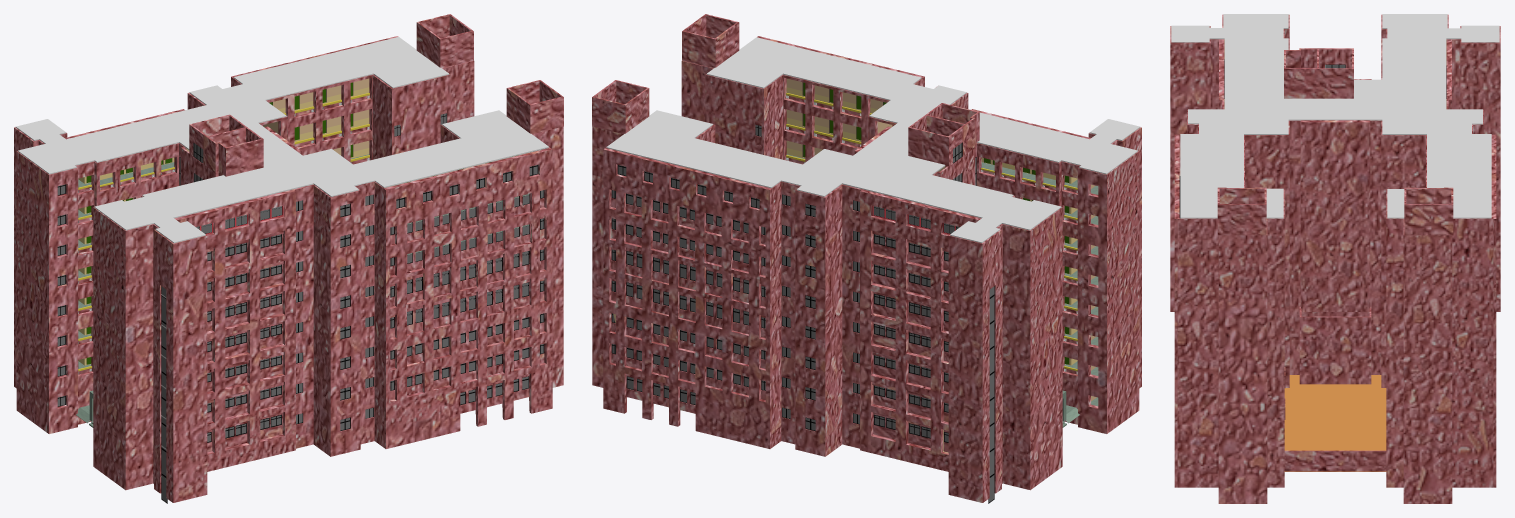
3 renders of one model, left to right at view 1: azimuth 30°, elevation 25°; view 2: azimuth 150°, elevation 25°; view 3: azimuth 270°, elevation 25°, orthographic. The views are drawn at different scales.
Visible parts, largest first — view 1: Screenshot (4550).003, Screenshot (4550).015, Screenshot (4550).014, bh3wind1.006, bh3wind1.008, Screenshot (4550).013, bh3wind4.006, Screenshot (4550).002, bh3wind4.007, bh3wind3.012, bh3wind3.013, bh3wind3.016 (+10 smaller); view 2: Screenshot (4550).003, Screenshot (4550).015, Screenshot (4550).014, bh3wind1.002, bh3wind1.004, Screenshot (4550).013, bh3wind4.002, Screenshot (4550).002, bh3wind4.005, bh3wind3.002, bh3wind3.003, bh3wind3.010 (+8 smaller); view 3: Screenshot (4550).003, Screenshot (4550).015, Vert.002, Vert.003, Vert, Screenshot (4550).014, Screenshot (4550).013, Vert.006.
Boxes of the visible parts, x1=… form: Screenshot (4550).003: x1=14, y1=36, x2=563, y2=502; Screenshot (4550).015: x1=15, y1=37, x2=548, y2=449; Screenshot (4550).014: x1=416, y1=14, x2=563, y2=133; bh3wind1.006: x1=207, y1=234, x2=282, y2=452; bh3wind1.008: x1=207, y1=234, x2=281, y2=442; Screenshot (4550).013: x1=189, y1=114, x2=263, y2=176; bh3wind4.006: x1=407, y1=247, x2=529, y2=334; Screenshot (4550).002: x1=78, y1=78, x2=527, y2=365; bh3wind4.007: x1=407, y1=251, x2=529, y2=325; bh3wind3.012: x1=407, y1=317, x2=529, y2=395; bh3wind3.013: x1=407, y1=194, x2=529, y2=271; bh3wind3.016: x1=407, y1=317, x2=529, y2=386; Screenshot (4550).003: x1=592, y1=36, x2=1141, y2=502; Screenshot (4550).015: x1=606, y1=37, x2=1140, y2=375; Screenshot (4550).014: x1=592, y1=14, x2=739, y2=133; bh3wind1.002: x1=873, y1=234, x2=948, y2=452; bh3wind1.004: x1=874, y1=234, x2=948, y2=442; Screenshot (4550).013: x1=908, y1=103, x2=979, y2=166; bh3wind4.002: x1=626, y1=247, x2=748, y2=334; Screenshot (4550).002: x1=613, y1=78, x2=1096, y2=452; bh3wind4.005: x1=626, y1=251, x2=748, y2=325; bh3wind3.002: x1=626, y1=317, x2=748, y2=395; bh3wind3.003: x1=626, y1=195, x2=748, y2=271; bh3wind3.010: x1=626, y1=317, x2=748, y2=387; Screenshot (4550).003: x1=1170, y1=14, x2=1500, y2=503; Screenshot (4550).015: x1=1171, y1=14, x2=1499, y2=218; Vert.002: x1=1300, y1=120, x2=1370, y2=311; Vert.003: x1=1284, y1=375, x2=1386, y2=471; Vert: x1=1299, y1=306, x2=1371, y2=384; Screenshot (4550).014: x1=1217, y1=187, x2=1453, y2=235; Screenshot (4550).013: x1=1284, y1=48, x2=1353, y2=98; Vert.006: x1=1284, y1=450, x2=1386, y2=471.
Bounding box in the file's own units: 5590 × 3609 × 3534.
